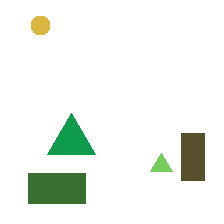circle: (31, 16, 49, 34)
rectangle: (28, 173, 85, 203), (181, 133, 204, 180)
triangle: (47, 113, 95, 154), (150, 153, 172, 171)
